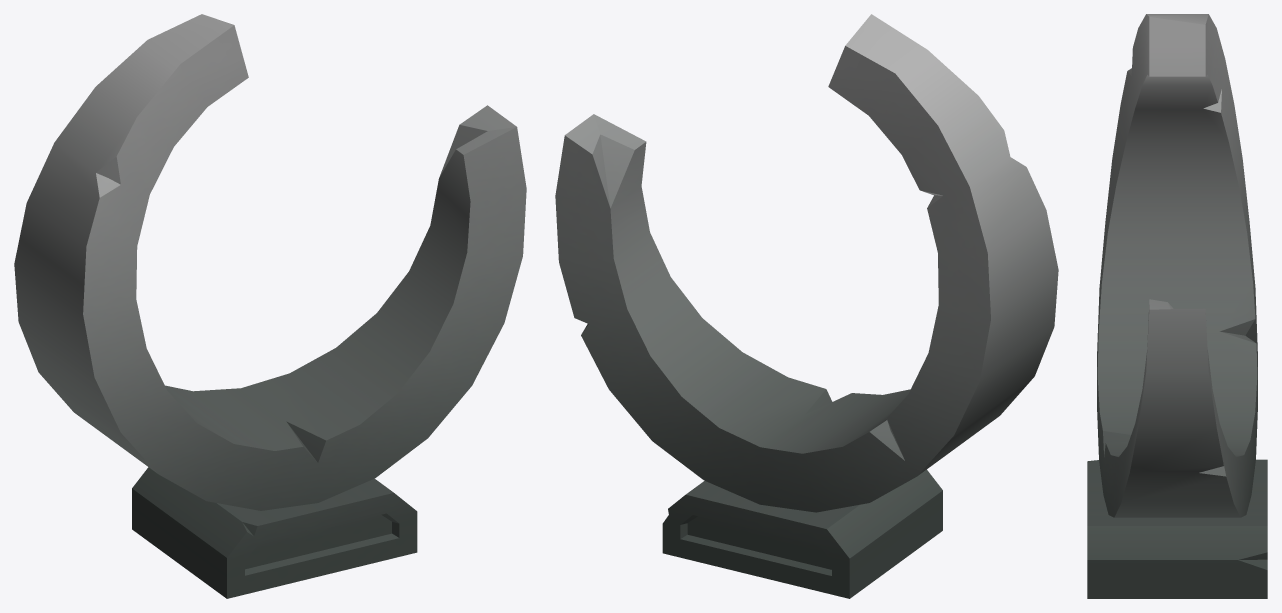
Rendered from Moon_shape_stone.fbx.
The picture shows the model from 3 angles, left to right: view 1: azimuth 30°, elevation 25°; view 2: azimuth 150°, elevation 25°; view 3: azimuth 270°, elevation 25°; orthographic projection. The views are drawn at different scales.
Visible parts, largest first — view 1: Mooone_stone; view 2: Mooone_stone; view 3: Mooone_stone.
Part boxes in pixels (x1,y1,x2,y2): Mooone_stone: [14, 14, 526, 598]; Mooone_stone: [555, 14, 1058, 598]; Mooone_stone: [1087, 14, 1267, 598].
Bounding box in the file's own units: 1.66 × 5.21 × 4.66.
